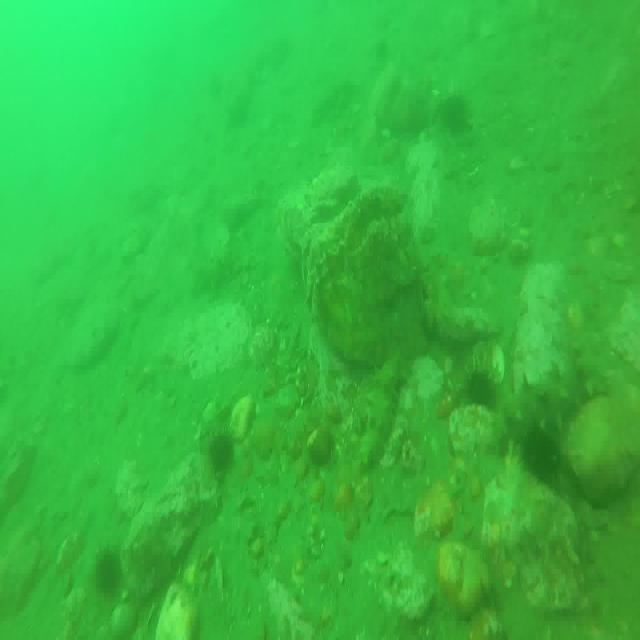echinus: (522, 418, 565, 484), (92, 543, 124, 598), (464, 363, 498, 413), (206, 426, 233, 476)
